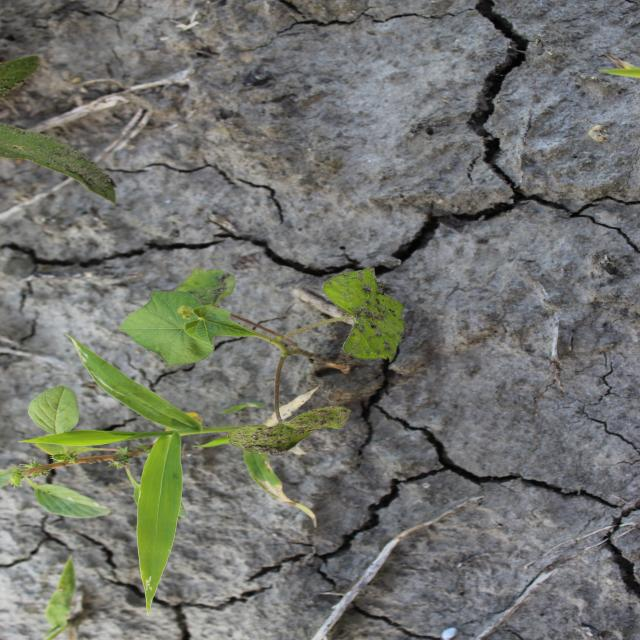MorningGlory: (109, 264, 417, 455)
PalmerAmaranth: (2, 382, 163, 523)
